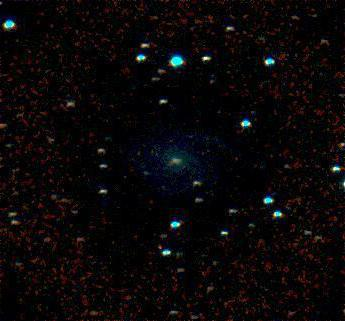star: (128, 160, 158, 190)
